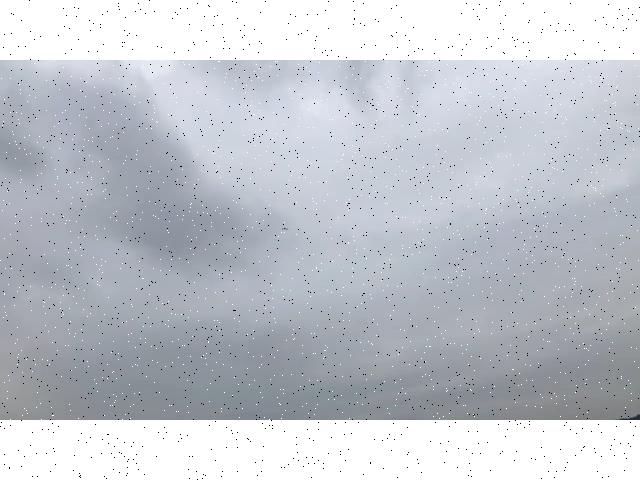Anti-Drone: (275, 223, 293, 233)
